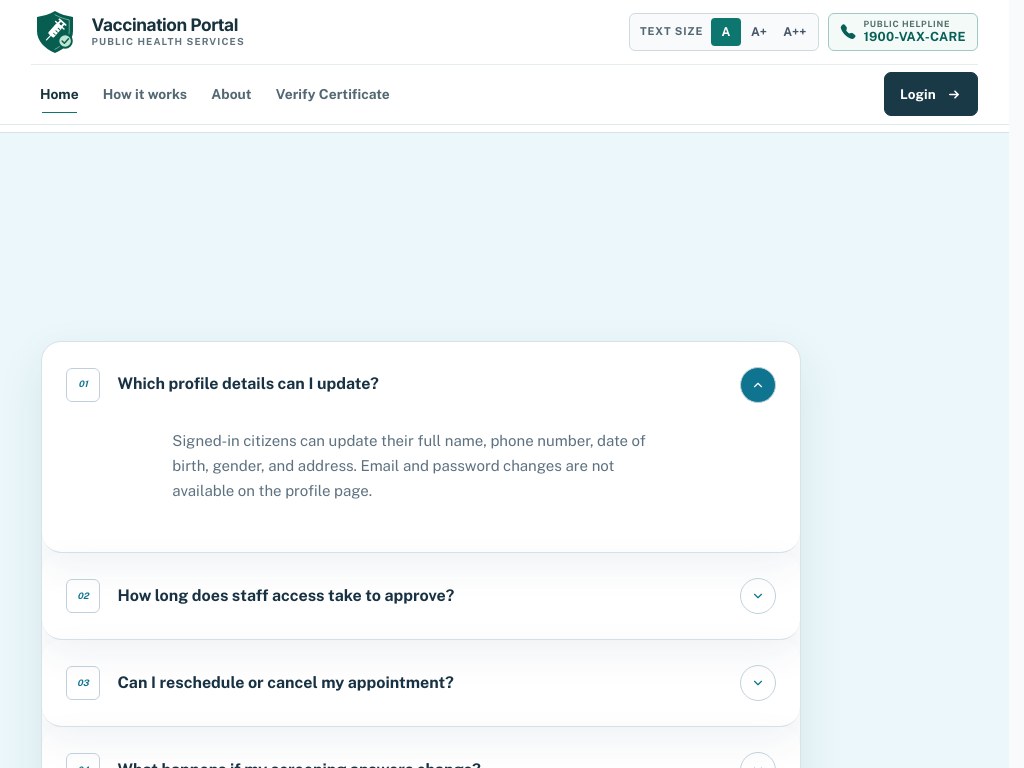
Test: HowItWorksPage › toggles FAQ items accessibly
This screenshot has width=1024, height=768.
(page scrolled)
Click the button "01 Which profile details can I update?".
click(83, 385)  # box x1=42 y1=342 x2=800 y2=428
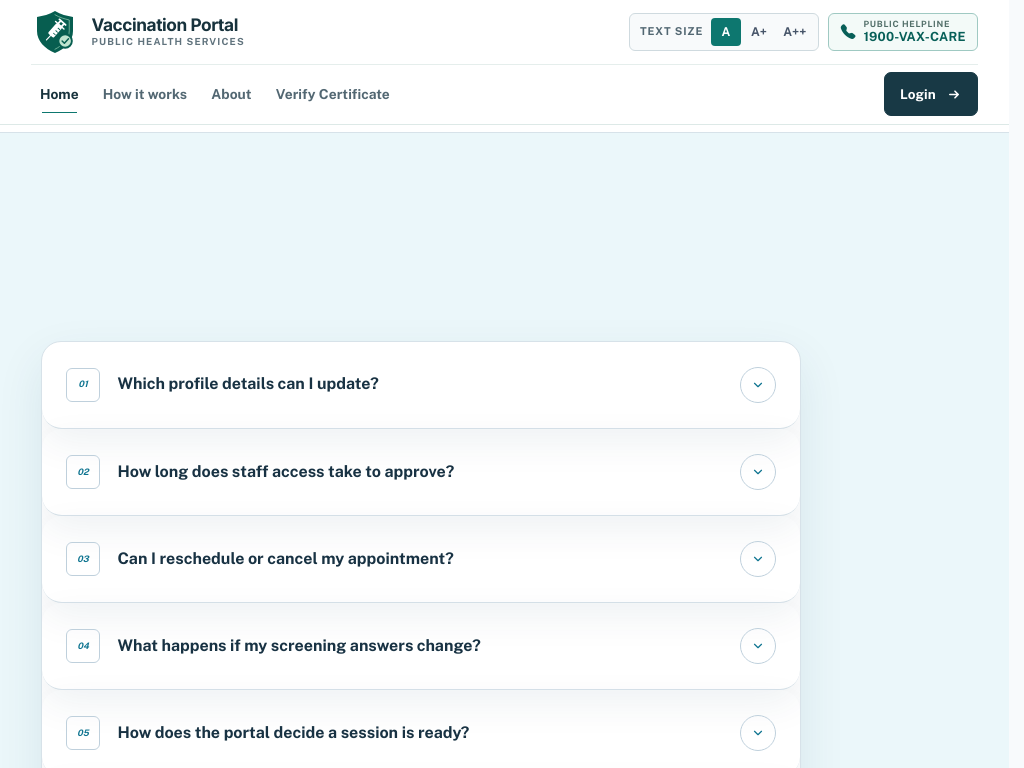
Expected: the button "01 Which profile details can I update?" is collapsed, x1=42 y1=342 x2=800 y2=428
Click the button "How long does staff access take to approve?".
click(421, 472)  # box x1=42 y1=428 x2=800 y2=514
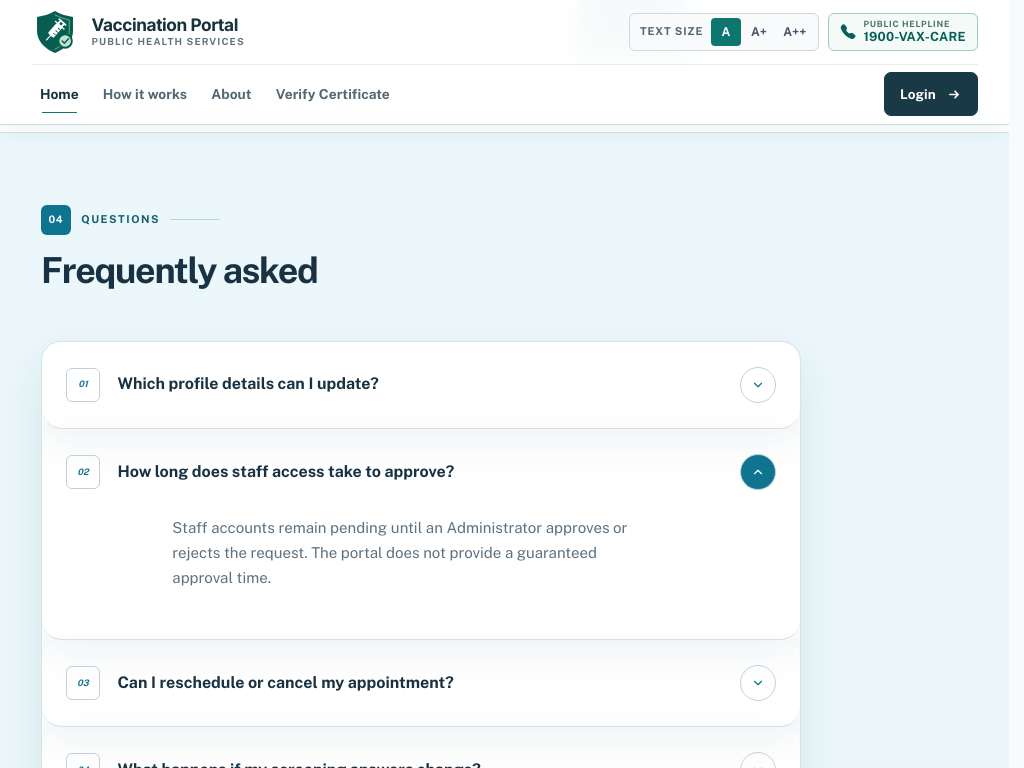
Expected: the button "01 Which profile details can I update?" is collapsed, x1=42 y1=342 x2=800 y2=428
Expected: the button "How long does staff access take to approve?" is expanded, x1=42 y1=428 x2=800 y2=514
